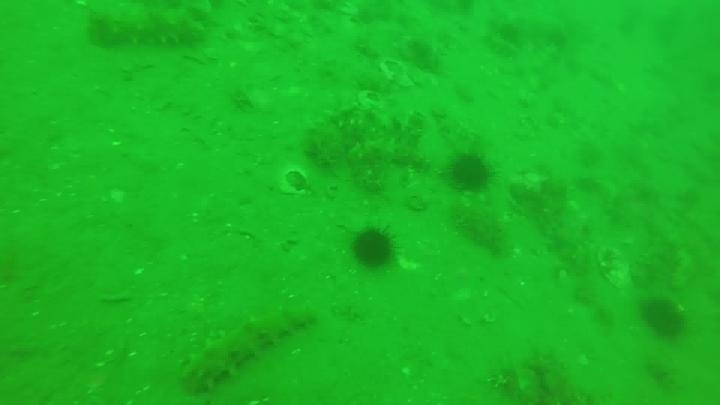echinus: (638, 295, 688, 343), (349, 225, 398, 272), (446, 151, 494, 195)
holothurian: (179, 304, 315, 395), (86, 6, 208, 51), (349, 136, 431, 175), (323, 102, 393, 132)
scallop: (595, 244, 635, 288)
